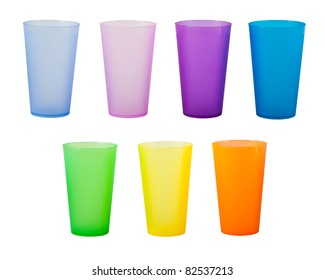plastic_glass: (11, 11, 91, 125), (169, 11, 237, 126), (245, 15, 311, 123), (61, 134, 123, 247), (96, 14, 158, 125), (208, 137, 273, 241), (135, 136, 197, 242)
